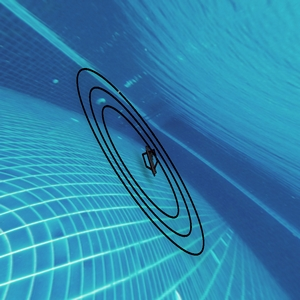circle: (72, 59, 225, 278)
submarine: (142, 144, 156, 174)
